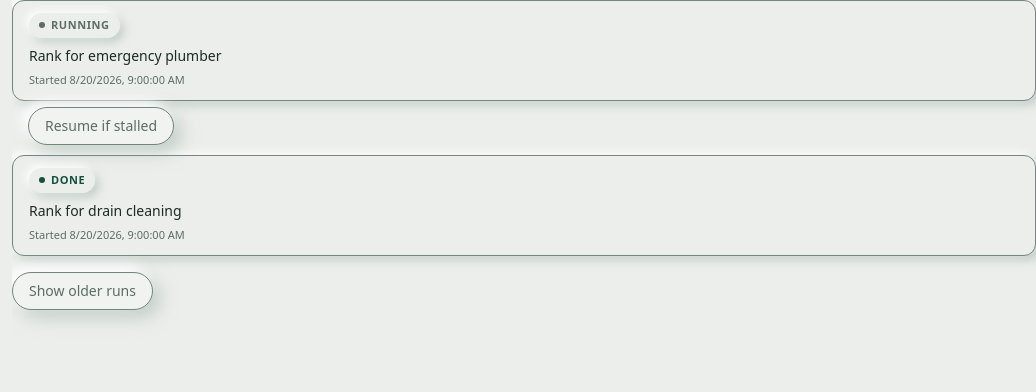
Test: older runs › does not show a run twice when a refreshed first page overlaps an appended page
Click the button with aria-label "Load older runs".
click(82, 291)  # box [12,272,153,310]
Wait 5000 ms
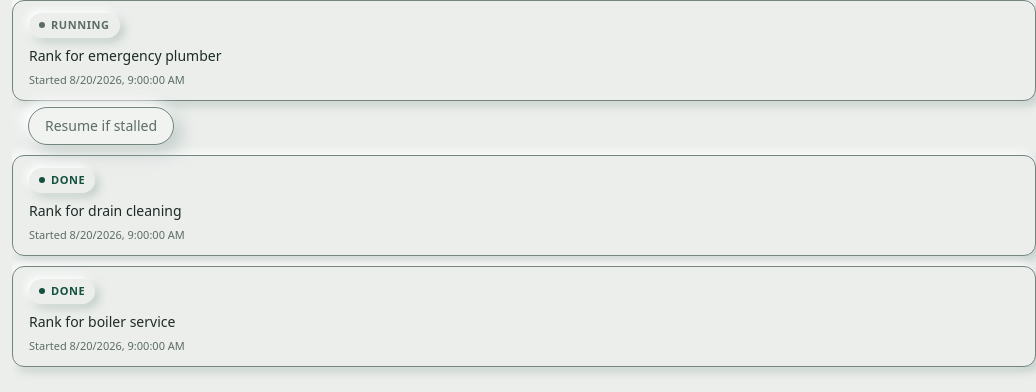
Check: the text "Rank for emergency plumber" is shown once, box [29,46,222,64]
Check: the text "Rank for boiler service" is shown once, box [29,312,175,330]
